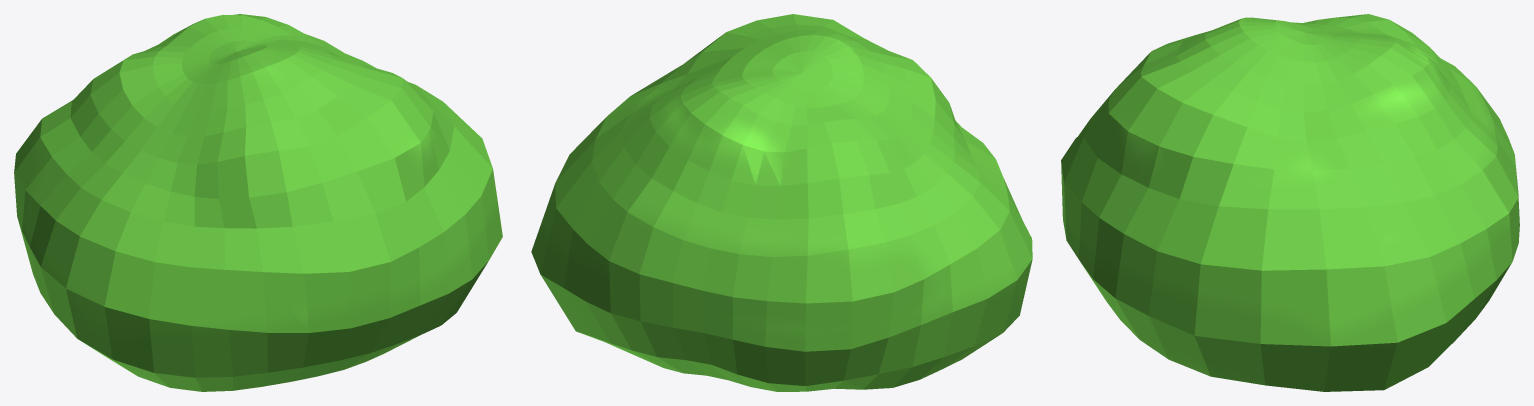
The model's file is Arbusto_prefab.fbx.
3 views of the same model, side by side, from view 1: azimuth 30°, elevation 25°; view 2: azimuth 150°, elevation 25°; view 3: azimuth 270°, elevation 25° (orthographic).
Visible parts, largest first — view 1: Sphere; view 2: Sphere; view 3: Sphere.
Boxes of the visible parts, bbox=[...] form: Sphere: bbox=[14, 14, 502, 391]; Sphere: bbox=[531, 14, 1032, 391]; Sphere: bbox=[1061, 14, 1519, 391].
Size of the model in its own units: 390 by 253 by 361.
1 material, 1 textured.
